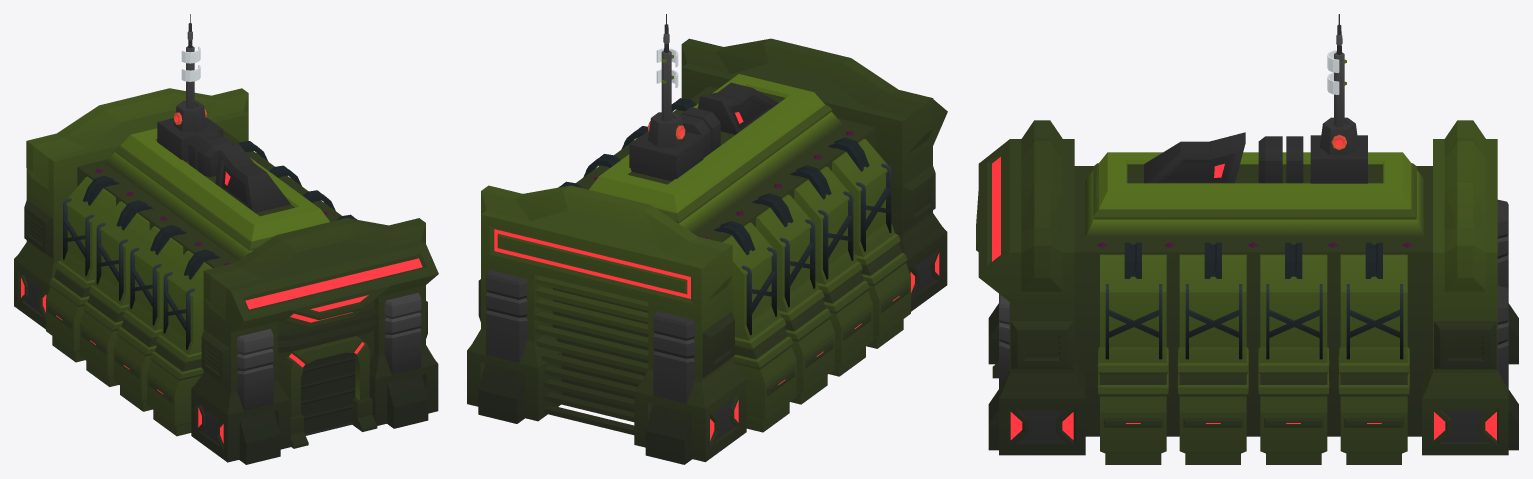
3 renders of one model, left to right at view 1: azimuth 30°, elevation 25°; view 2: azimuth 150°, elevation 25°; view 3: azimuth 270°, elevation 25°, orthographic. The views are drawn at different scales.
Parts seen in each view (by area): view 1: BASE_1, Door_0; view 2: BASE_1; view 3: BASE_1.
Boxes of the visible parts, x1,y1,x2,y2 form: BASE_1: (14, 14, 438, 464); Door_0: (301, 352, 355, 434); BASE_1: (467, 14, 947, 464); BASE_1: (976, 14, 1518, 464).
Size of the model in its own units: 6.31 by 8.36 by 10.66.
1 material, 1 textured.
